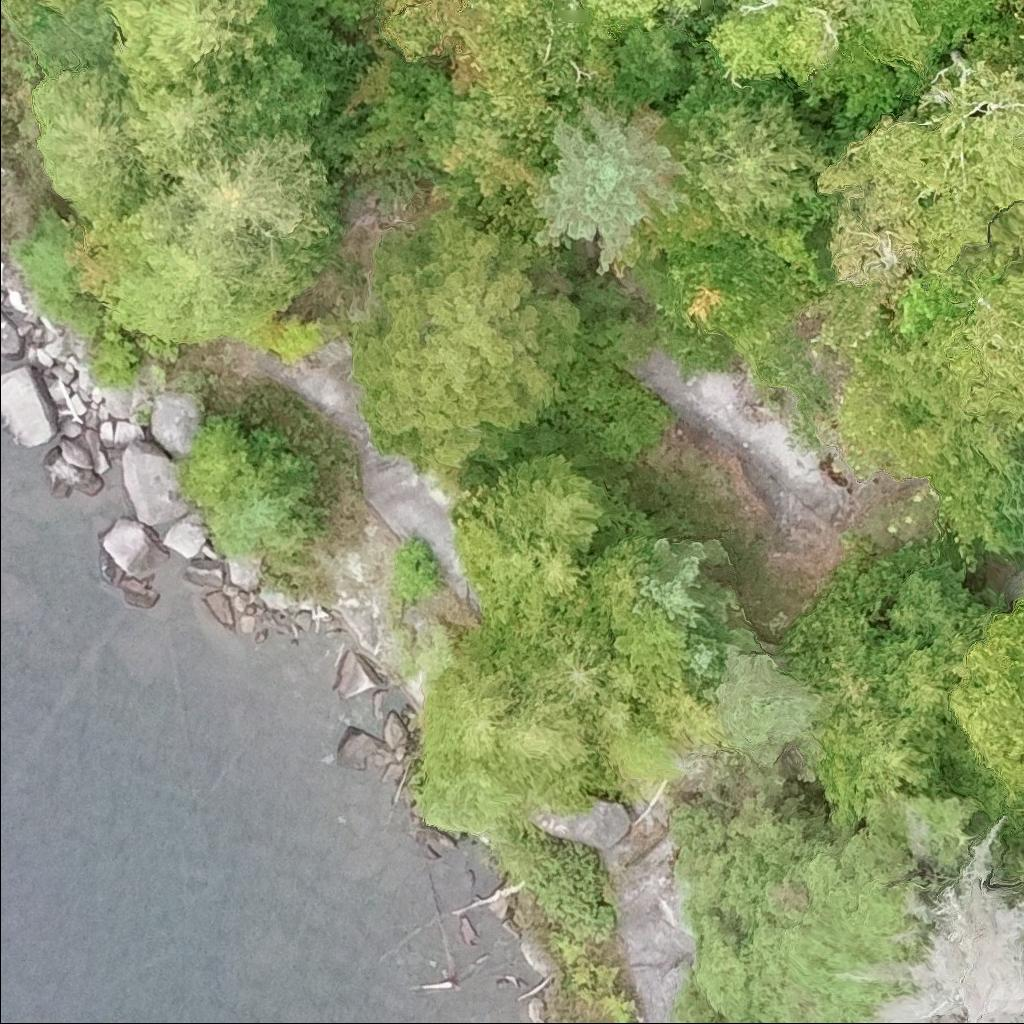crown: (819, 53, 1023, 305), (839, 810, 1023, 1023), (407, 210, 580, 425), (117, 130, 334, 286), (709, 0, 944, 138), (353, 272, 516, 469), (886, 264, 1023, 468), (538, 101, 691, 279), (783, 829, 918, 1020), (384, 0, 565, 132), (90, 219, 284, 342), (668, 793, 834, 928), (32, 69, 164, 224), (658, 222, 806, 358), (516, 599, 651, 745), (698, 910, 867, 1023), (685, 93, 828, 223), (785, 592, 924, 722), (124, 73, 268, 179), (109, 0, 278, 90), (887, 607, 1005, 730), (950, 599, 1023, 795), (718, 645, 834, 768), (421, 661, 525, 774), (494, 530, 590, 646), (498, 456, 606, 555), (636, 537, 741, 630), (495, 700, 595, 795), (419, 86, 513, 181), (885, 562, 990, 646), (613, 603, 697, 692), (180, 418, 258, 509), (686, 623, 761, 701), (584, 0, 692, 39), (1001, 454, 1023, 551), (1000, 0, 1023, 27), (35, 0, 89, 10)
